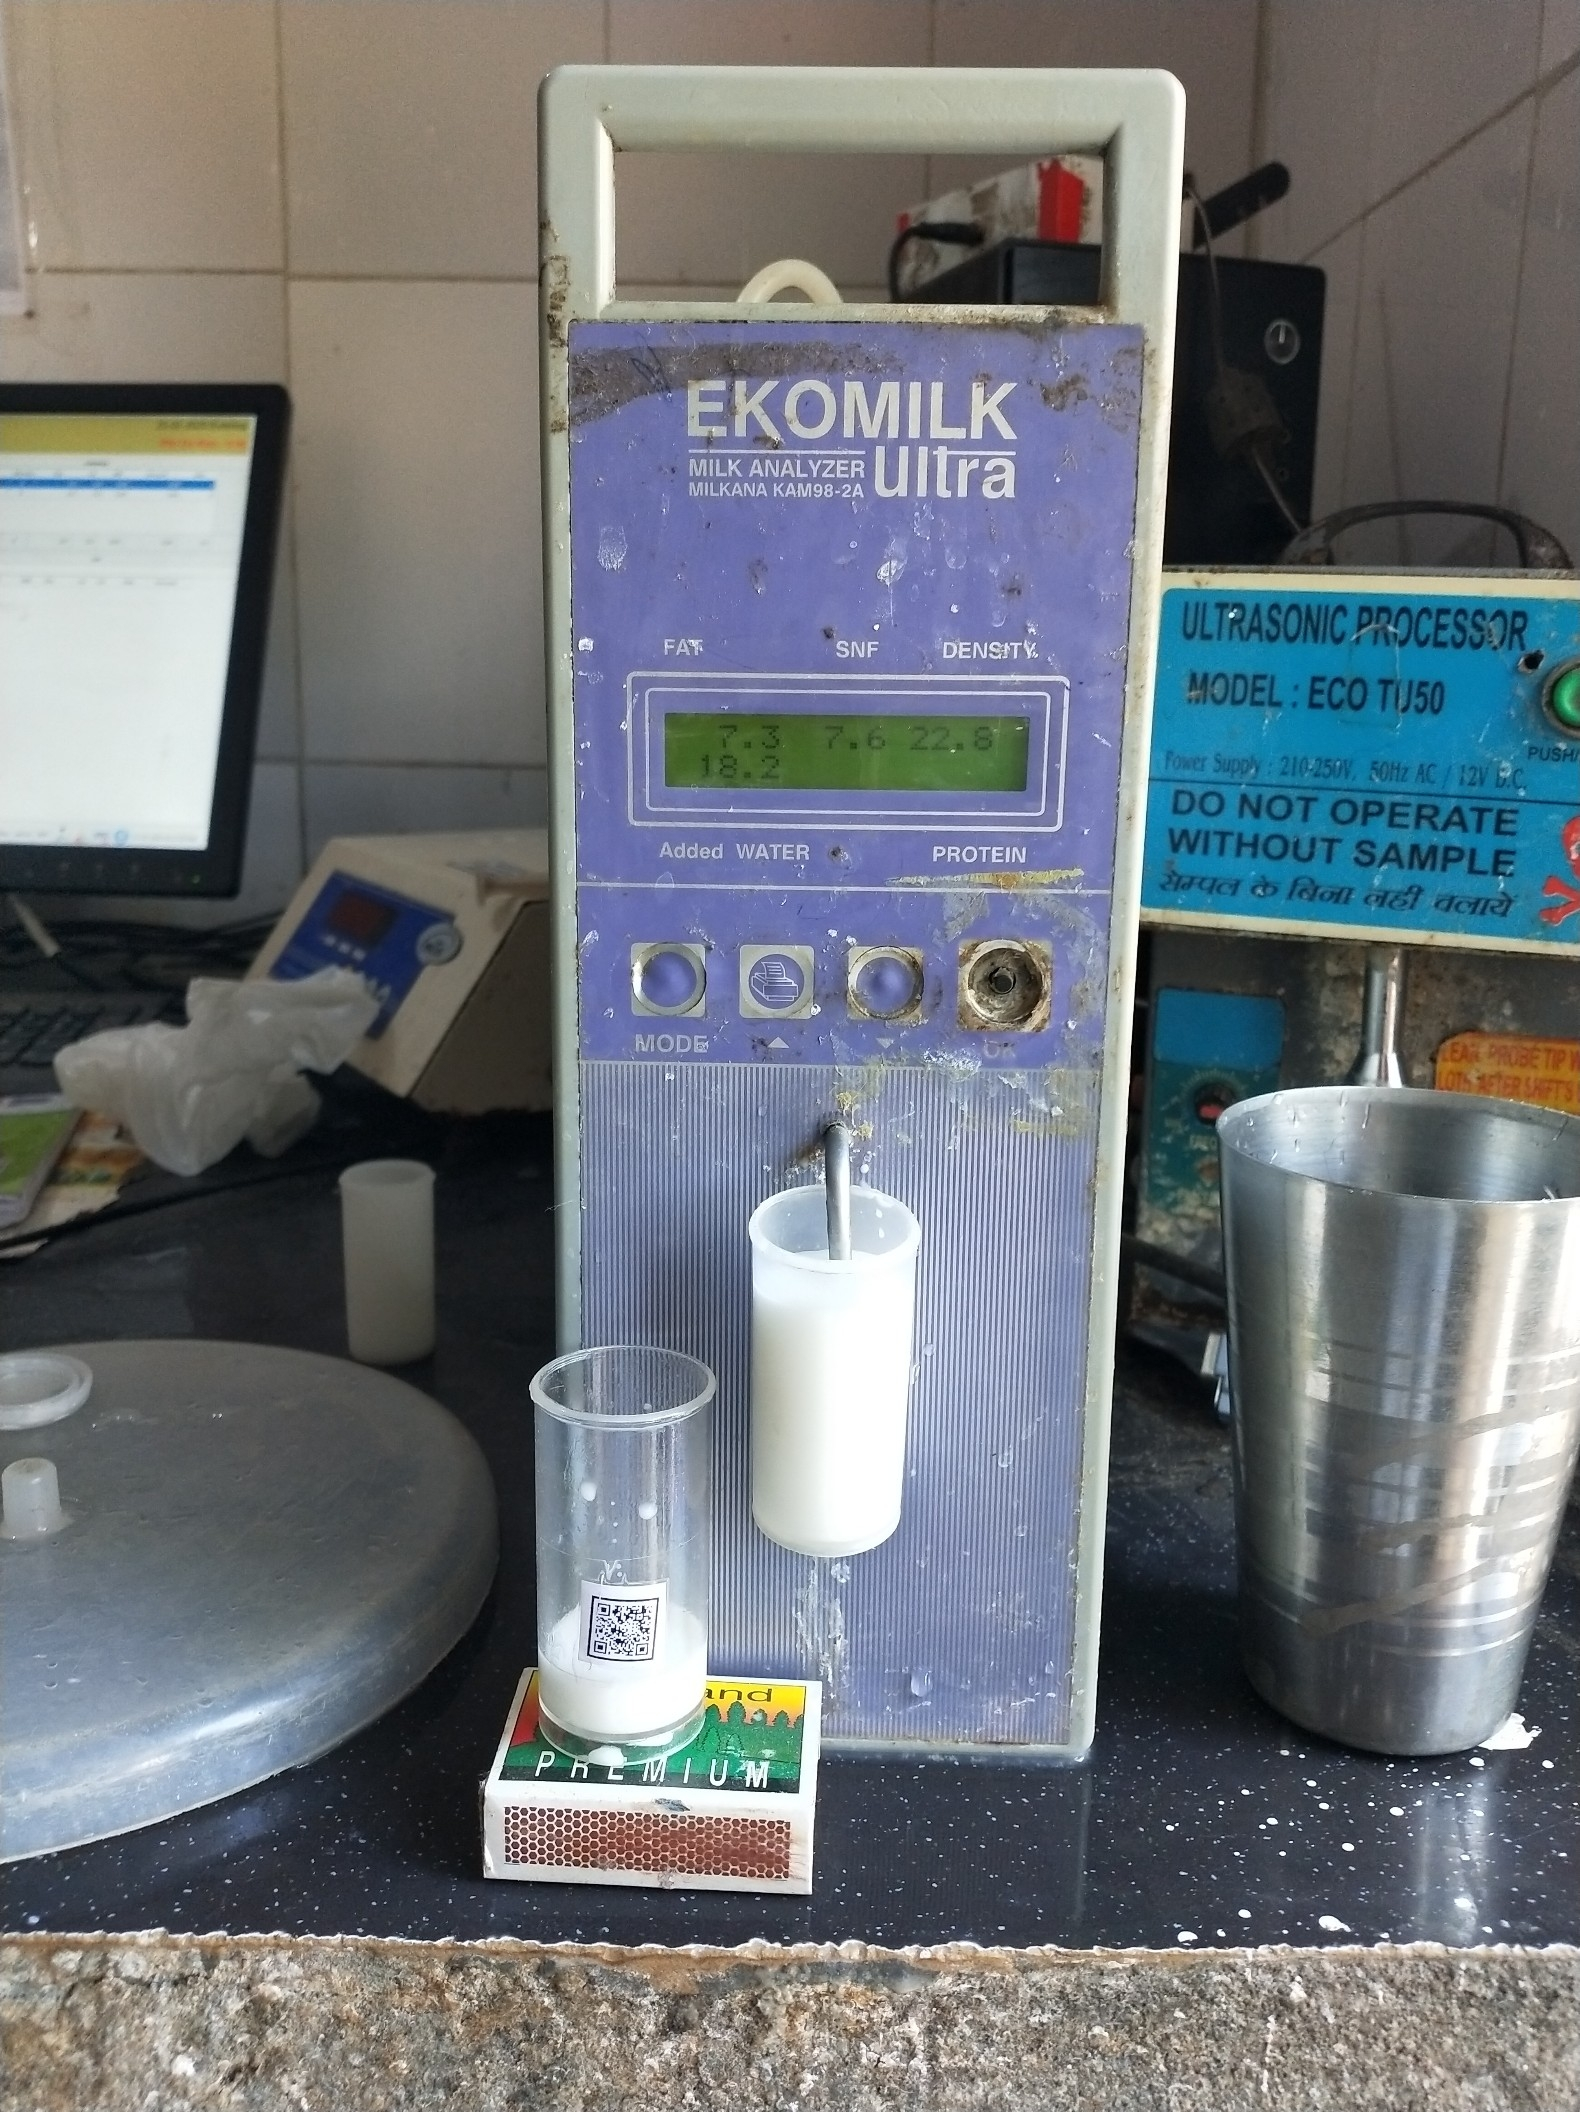lcd: (646, 702, 1049, 816)
qr: (574, 1578, 679, 1677)
